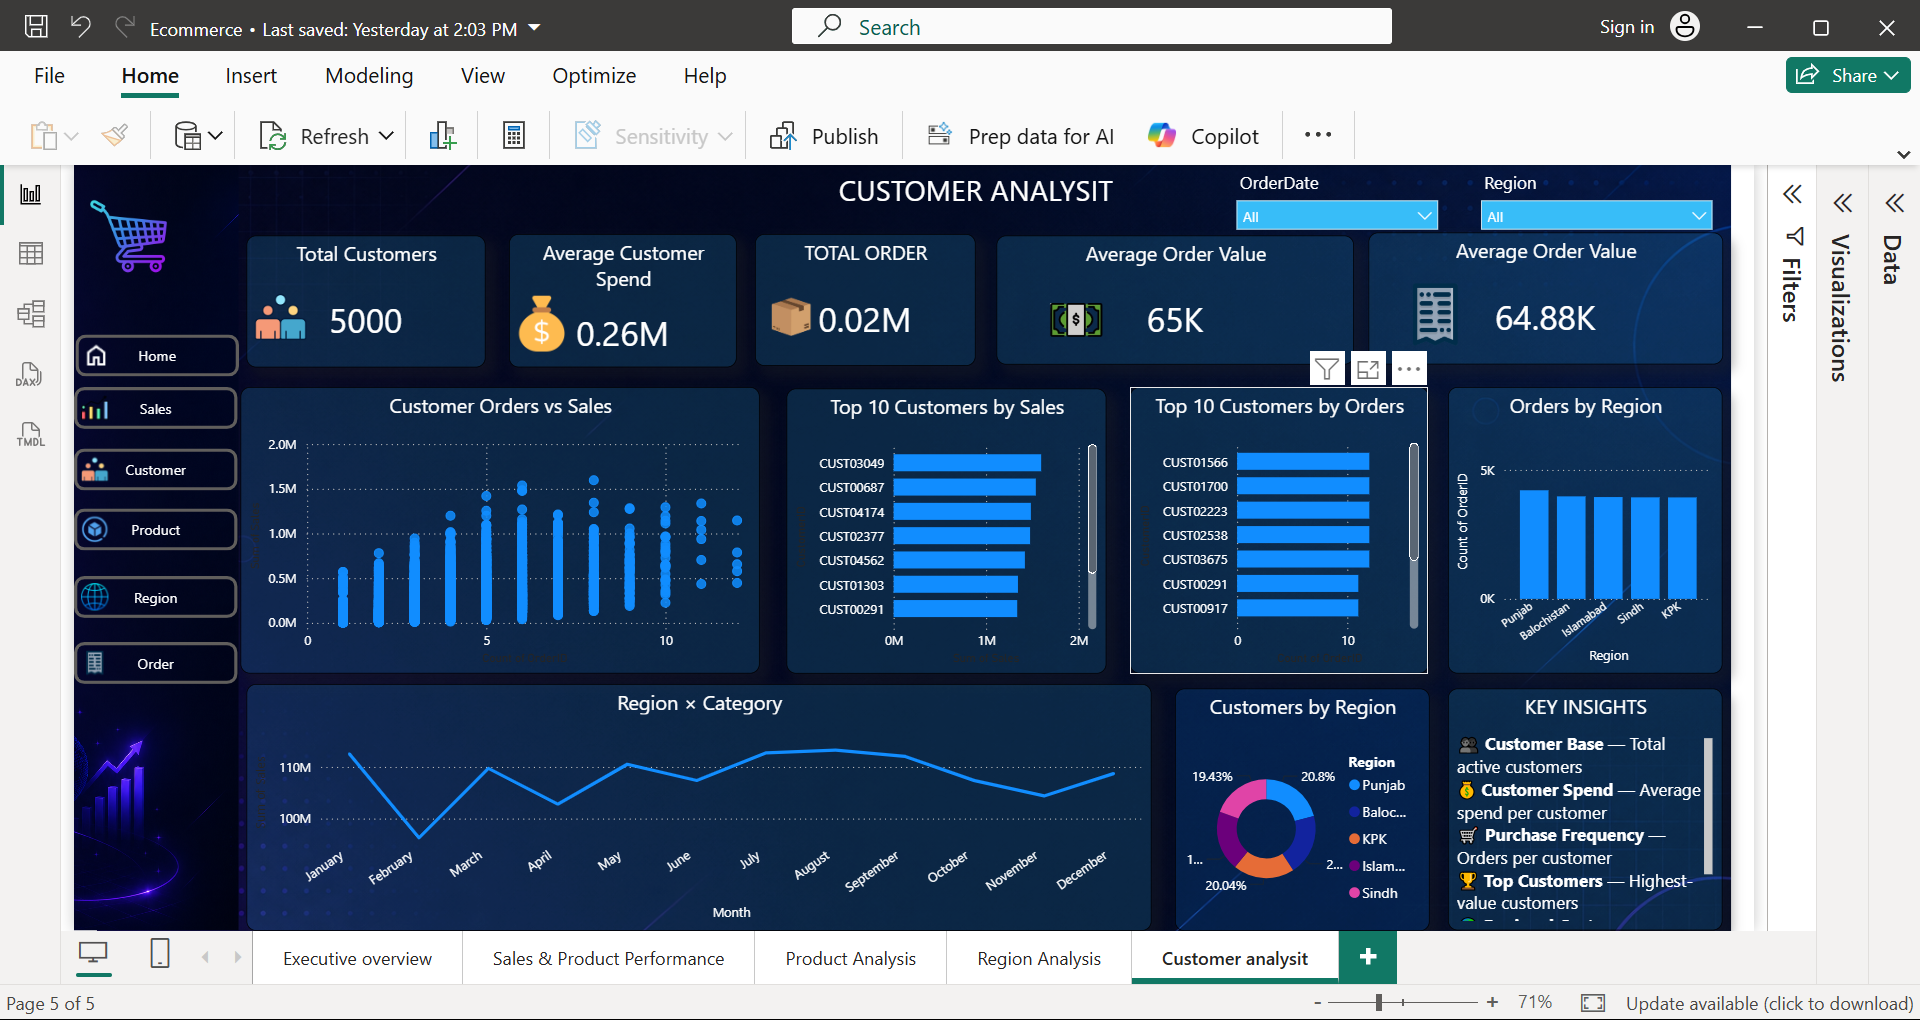

Layout of this report page (visuals, bound fields, positions):
{"tool":"powerbi","page":{"name":"Customer & Sales Analysis","canvas":[1580,720],"ordinal":2},"visuals":[{"type":"card","title":"TOTAL ORDER","fields":{"Values":["Count(ecommerce_orders.OrderID)"]},"box":[162.6,66.9,224.7,124.3],"z":0},{"type":"image","box":[162.6,117.9,59,55.8],"z":1000},{"type":"card","title":"ORDER PER CUSTOMER","fields":{"Values":["customers.Orders per Customer"]},"box":[409.3,65.1,214.3,125.5],"z":2000},{"type":"card","title":"AVERAGE CUSTOMER SPEND","fields":{"Values":["CountNonNull(customers.Average Customer Spending)"]},"box":[640.5,65.1,207.4,124.2],"z":3000},{"type":"card","title":"Average Order Value","fields":{"Values":["customers.Average Order Value"]},"box":[1216.1,63.8,333.1,124.3],"z":4000},{"type":"card","title":"TOTAL CUSTOMER","fields":{"Values":["Count(ecommerce_orders.CustomerID)"]},"box":[867,66.9,336.3,121.1],"z":5000},{"type":"image","box":[0,0,154.4,719.2],"z":6000},{"type":"image","box":[5.6,24,91.6,86],"z":7000},{"type":"textbox","box":[135.5,0,1424.9,66.9],"z":8000},{"type":"image","box":[884.6,110,90.8,52.6],"z":9000},{"type":"image","box":[1236.8,106.8,86.1,66.9],"z":10000},{"type":"lineChart","title":"Monthly Sales Trend","fields":{"Category":["ecommerce_orders.OrderDate.Variation.Date Hierarchy.Year","ecommerce_orders.OrderDate.Variation.Date Hierarchy.Month"],"Y":["customers.Average Revenue per Product"]},"box":[156.5,208.7,487.8,269.3],"z":11000},{"type":"donutChart","title":"Orders by Region","fields":{"Category":["products.Category"],"Y":["customers.Average Order Value"]},"box":[657.9,209.3,317.7,269.1],"z":12000},{"type":"scatterChart","title":"Customer Value Analysis","fields":{"X":["customers.Orders per Customer"],"Y":["Sum(ecommerce_orders.Sales)"],"Category":["customers.CustomerID"]},"box":[991.4,209.9,286.9,268.3],"z":13000},{"type":"clusteredBarChart","title":"Top 10 Customers","fields":{"Category":["customers.CustomerID"],"Y":["customers.Average Revenue per Product"]},"box":[159.3,487.8,352.5,231.2],"z":14000},{"type":"clusteredBarChart","title":"Revenue by Region","fields":{"Category":["customers.Region"],"Y":["customers.Average Revenue per Product"]},"box":[538.6,487.8,411.7,231.2],"z":15000},{"type":"clusteredBarChart","title":"Top 10 Sales by Product","fields":{"Category":["ecommerce_orders.ProductName"],"Y":["Sum(ecommerce_orders.Sales)"]},"box":[964.4,490.7,314.4,228.4],"z":16000},{"type":"clusteredColumnChart","title":"Orders by Category","fields":{"Category":["products.Category"],"Y":["customers.Average Order Value"]},"box":[1291.5,209.3,257.9,269.1],"z":17000},{"type":"textbox","title":"KEY INSIGHTS","box":[1291.5,492.1,258,227],"z":18000},{"type":"slicer","fields":{"Values":["ecommerce_orders.OrderDate"]},"box":[1054.2,0,237.4,63.5],"z":19000},{"type":"slicer","fields":{"Values":["ecommerce_orders.Region"]},"box":[1312.1,0,237.4,63.5],"z":20000},{"type":"actionButton","box":[1.4,159.3,153.7,39.5],"z":21000},{"type":"actionButton","box":[0,208.8,153.7,39.5],"z":22000},{"type":"actionButton","box":[0,266.2,153.7,39.5],"z":23000},{"type":"actionButton","box":[0,323.5,153.7,39.5],"z":24000},{"type":"actionButton","box":[0,385.7,153.7,39.5],"z":25000},{"type":"actionButton","box":[0,447.9,153.7,39.5],"z":26000},{"type":"image","box":[641.1,117.8,74.8,56.1],"z":27000},{"type":"image","box":[409.3,106.5,61.7,76.6],"z":28000}]}

Visuals, with their boxes on the page's 1580x720 design canvas (x1, y1, x2, y2). These are canvas units, not pixel positions in the 1920x1020 screenshot, which may show the page scaled, cropped or inside an application window:
"TOTAL ORDER" card: x1=163, y1=67, x2=387, y2=191
image: x1=163, y1=118, x2=222, y2=174
"ORDER PER CUSTOMER" card: x1=409, y1=65, x2=624, y2=191
"AVERAGE CUSTOMER SPEND" card: x1=640, y1=65, x2=848, y2=189
"Average Order Value" card: x1=1216, y1=64, x2=1549, y2=188
"TOTAL CUSTOMER" card: x1=867, y1=67, x2=1203, y2=188
image: x1=0, y1=0, x2=154, y2=719
image: x1=6, y1=24, x2=97, y2=110
textbox: x1=136, y1=0, x2=1560, y2=67
image: x1=885, y1=110, x2=975, y2=163
image: x1=1237, y1=107, x2=1323, y2=174
"Monthly Sales Trend" lineChart: x1=156, y1=209, x2=644, y2=478
"Orders by Region" donutChart: x1=658, y1=209, x2=976, y2=478
"Customer Value Analysis" scatterChart: x1=991, y1=210, x2=1278, y2=478
"Top 10 Customers" clusteredBarChart: x1=159, y1=488, x2=512, y2=719
"Revenue by Region" clusteredBarChart: x1=539, y1=488, x2=950, y2=719
"Top 10 Sales by Product" clusteredBarChart: x1=964, y1=491, x2=1279, y2=719
"Orders by Category" clusteredColumnChart: x1=1292, y1=209, x2=1549, y2=478
"KEY INSIGHTS" textbox: x1=1292, y1=492, x2=1550, y2=719
slicer - ecommerce_orders.OrderDate: x1=1054, y1=0, x2=1292, y2=64
slicer - ecommerce_orders.Region: x1=1312, y1=0, x2=1550, y2=64
actionButton: x1=1, y1=159, x2=155, y2=199
actionButton: x1=0, y1=209, x2=154, y2=248
actionButton: x1=0, y1=266, x2=154, y2=306
actionButton: x1=0, y1=324, x2=154, y2=363
actionButton: x1=0, y1=386, x2=154, y2=425
actionButton: x1=0, y1=448, x2=154, y2=487
image: x1=641, y1=118, x2=716, y2=174
image: x1=409, y1=106, x2=471, y2=183
